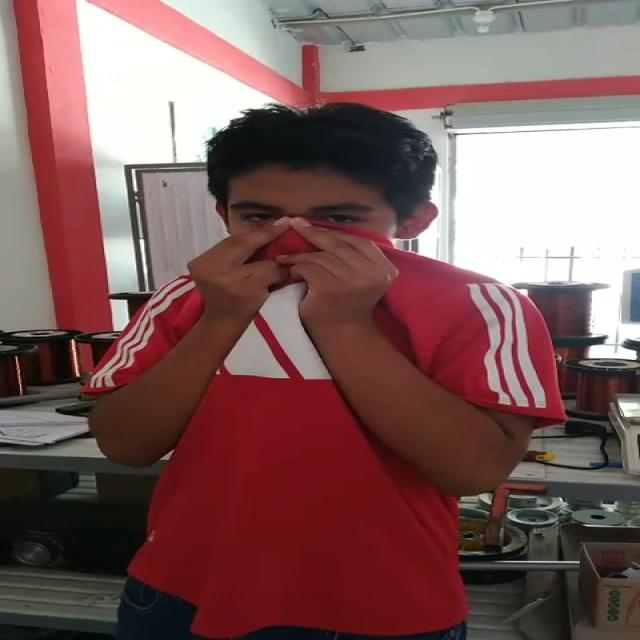8_ropa_rostro: (167, 219, 480, 356)
